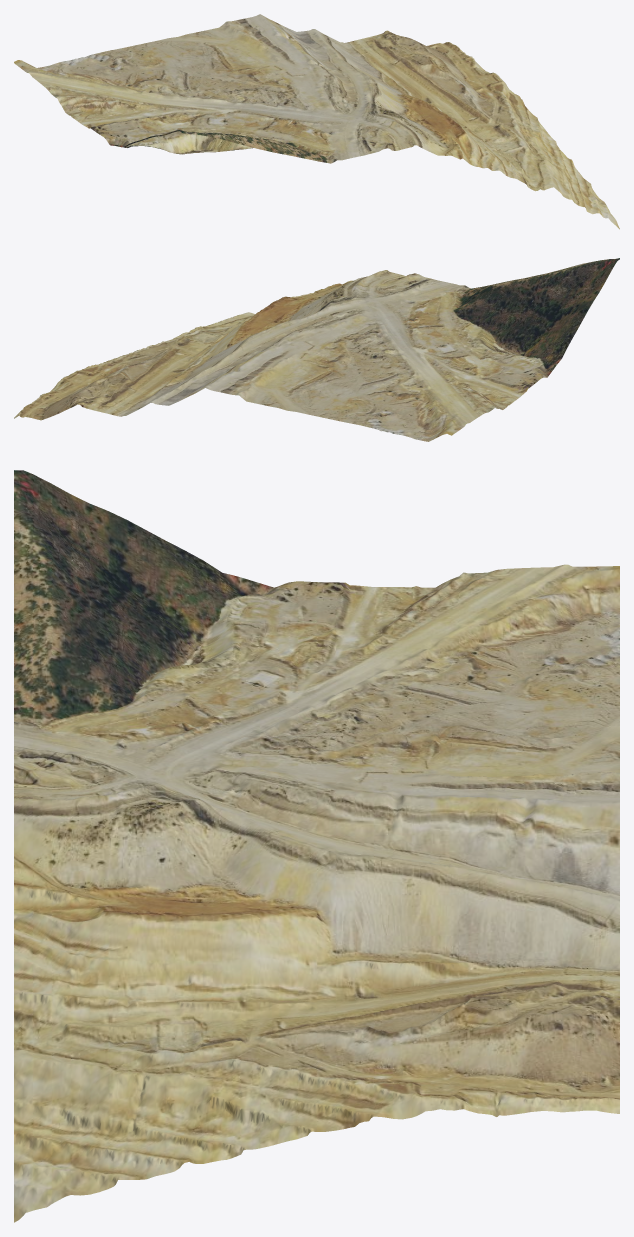
The picture shows the model from 3 angles, top to bottom: view 1: azimuth 30°, elevation 25°; view 2: azimuth 150°, elevation 25°; view 3: azimuth 270°, elevation 25°; orthographic projection. The views are drawn at different scales.
Parts seen in each view (by area): view 1: l2-0-3; view 2: l2-0-3; view 3: l2-0-3.
Boxes of the visible parts, <box> form: l2-0-3: <box>14,14,619,229</box>; l2-0-3: <box>14,258,619,441</box>; l2-0-3: <box>14,470,619,1222</box>.
Bounding box in the file's own units: 768 × 344 × 512.
Materials: 1 (1 with a texture image).
